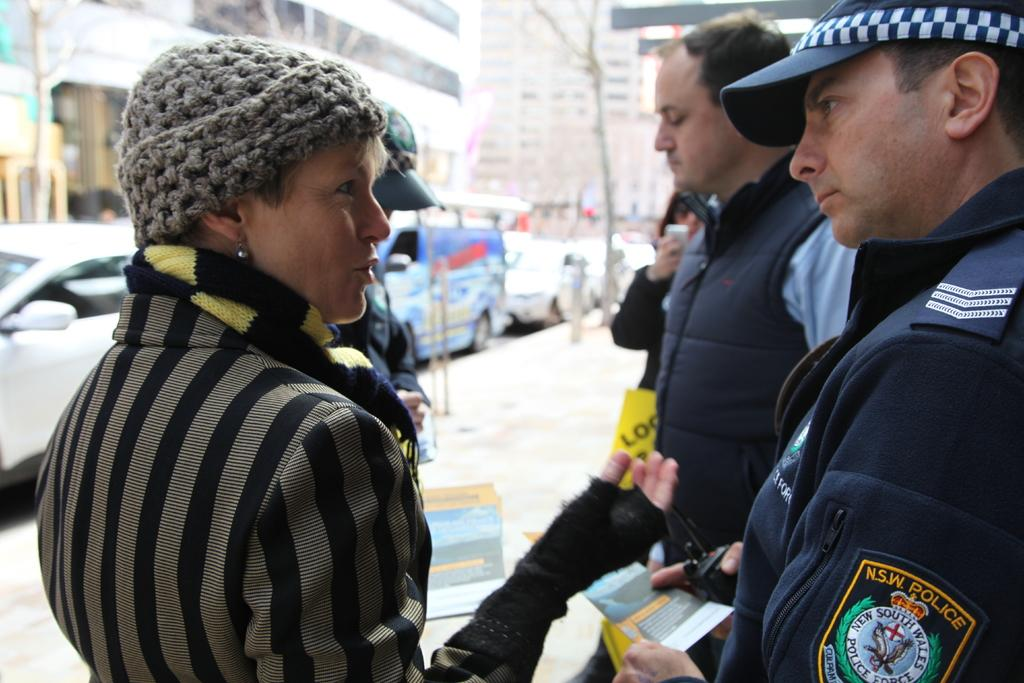Hat: (718, 0, 1023, 149), (370, 96, 444, 211)
